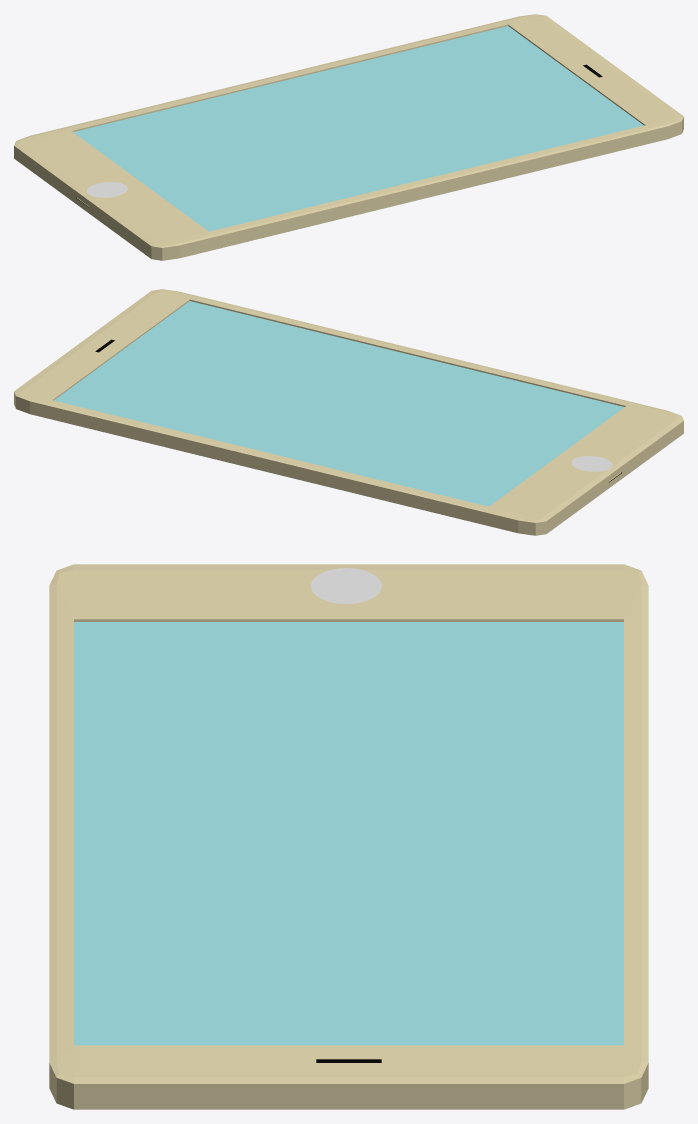
Rendered from iphone.gltf.
3 renders of one model, top to bottom at view 1: azimuth 30°, elevation 25°; view 2: azimuth 150°, elevation 25°; view 3: azimuth 270°, elevation 25°, orthographic. The views are drawn at different scales.
Visible parts, largest first — view 1: sumaho hontai.001, sumaho hontai; view 2: sumaho hontai.001, sumaho hontai; view 3: sumaho hontai.001, sumaho hontai.
Boxes of the visible parts, x1,y1,x2,y2 form: sumaho hontai.001: (14, 14, 683, 254); sumaho hontai: (14, 123, 683, 260); sumaho hontai.001: (14, 289, 683, 529); sumaho hontai: (14, 398, 683, 535); sumaho hontai.001: (49, 564, 648, 1096); sumaho hontai: (49, 1076, 648, 1109).
Size of what is drawn, in the model's own units: 2.93 by 0.0749 by 1.43.
